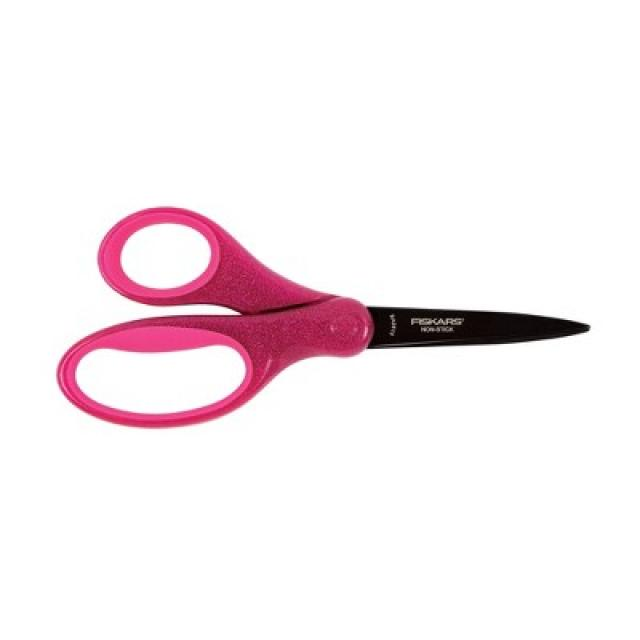scissor: (73, 200, 602, 433)
